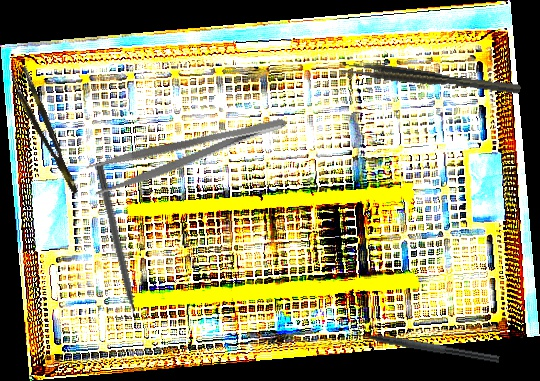Chopper: (347, 321, 502, 363)
Dressing Forceps: (83, 112, 294, 198)
Pusher: (92, 161, 143, 335)
Tissue Forceps: (8, 65, 80, 199), (340, 59, 522, 100)
